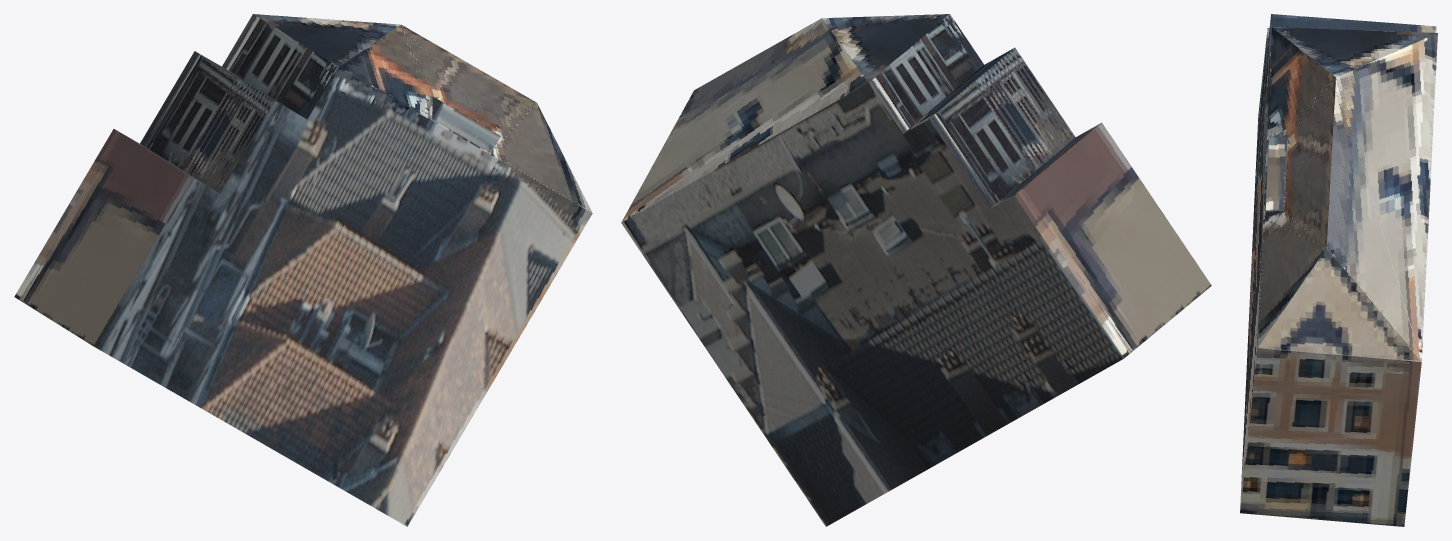
The picture shows the model from 3 angles, left to right: view 1: azimuth 30°, elevation 25°; view 2: azimuth 150°, elevation 25°; view 3: azimuth 270°, elevation 25°; orthographic projection.
Visible parts, largest first — view 1: BAG_0599100000671705 (×4); view 2: BAG_0599100000671705 (×3); view 3: BAG_0599100000671705 (×5).
Part boxes in pixels (x1=…): BAG_0599100000671705 (×4): x1=14, y1=14, x2=592, y2=526; BAG_0599100000671705 (×3): x1=621, y1=14, x2=1211, y2=526; BAG_0599100000671705 (×5): x1=1240, y1=14, x2=1437, y2=526.
Bounding box in the file's own units: 19.03 × 17.11 × 6.5.
5 materials, 5 textured.
